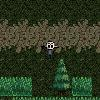Jason: (41, 40, 58, 59)
Obstacle: (51, 76, 72, 96)
Slow: (0, 77, 32, 96), (72, 77, 92, 96)
